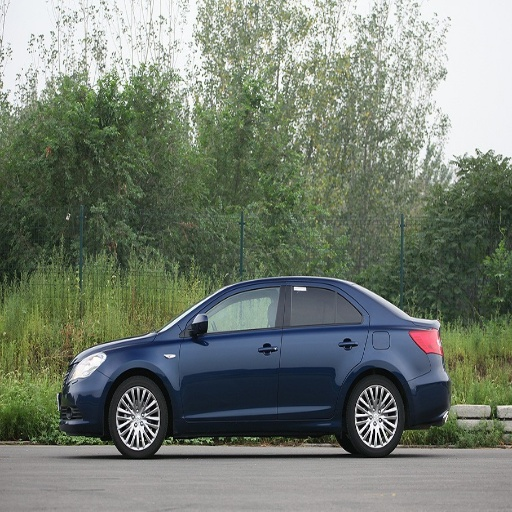back_left_door: (278, 281, 367, 415)
front_left_door: (179, 281, 284, 418)
